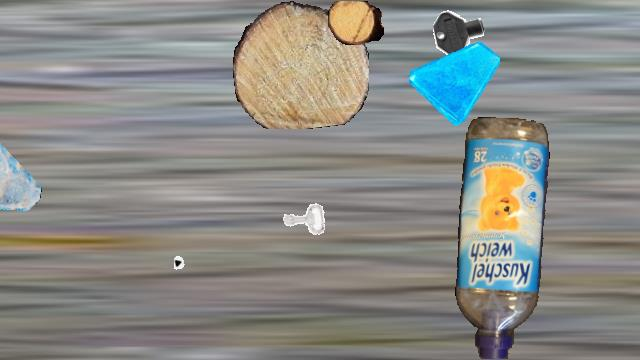glass: (409, 35, 499, 125), (0, 139, 42, 213)
metal: (174, 238, 236, 300), (429, 1, 491, 63), (277, 193, 329, 245)
plastic: (454, 117, 552, 359)
wood: (233, 1, 369, 129), (328, 1, 384, 45)
